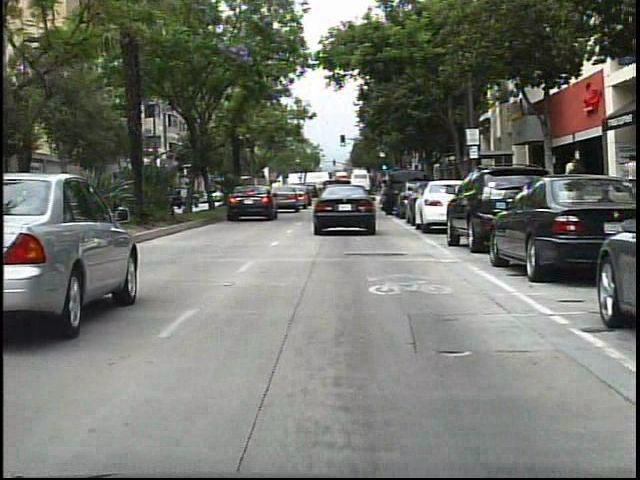person: (564, 154, 589, 223), (558, 156, 585, 218), (615, 151, 637, 205)
